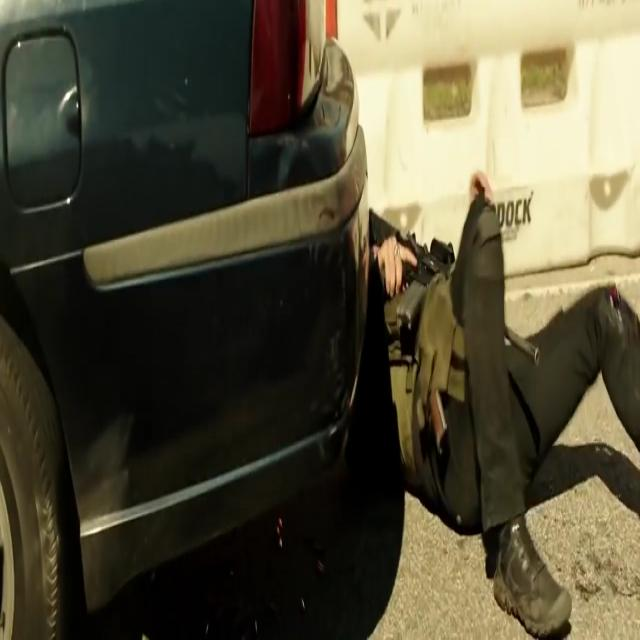Weapon: (374, 212, 453, 366)
